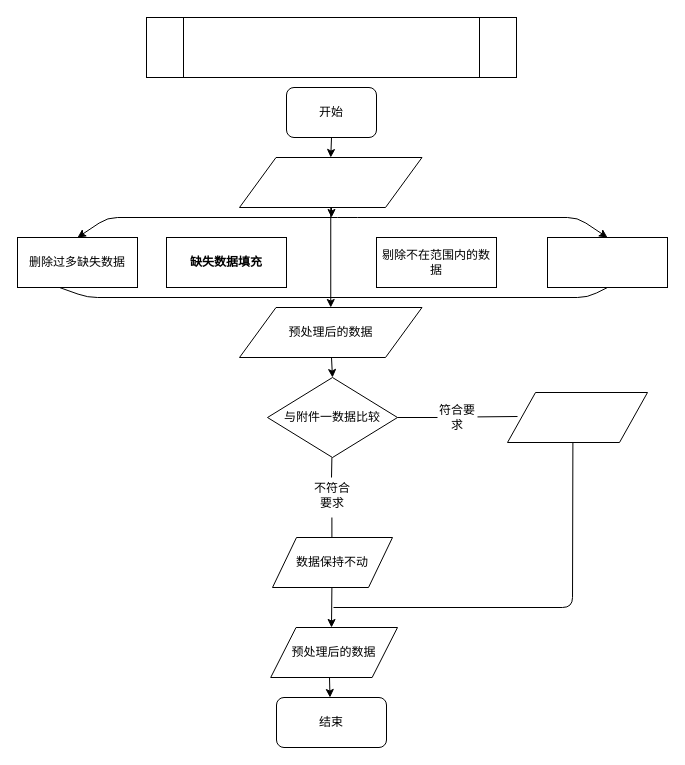
Image size: 685x765. Some labels were removed from this diagram. Here are the shapes that lost their labels. From the top down, the box of each, then its label:
(146, 16, 516, 78): 问题一求解思路
(238, 156, 422, 208): 附件三原始数据
(546, 236, 668, 288): 根据拉依达准则删除异常值数据
(506, 392, 648, 442): 插入附件一
